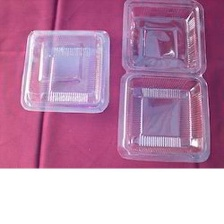plastic_box: (109, 0, 216, 168), (15, 23, 114, 120)
